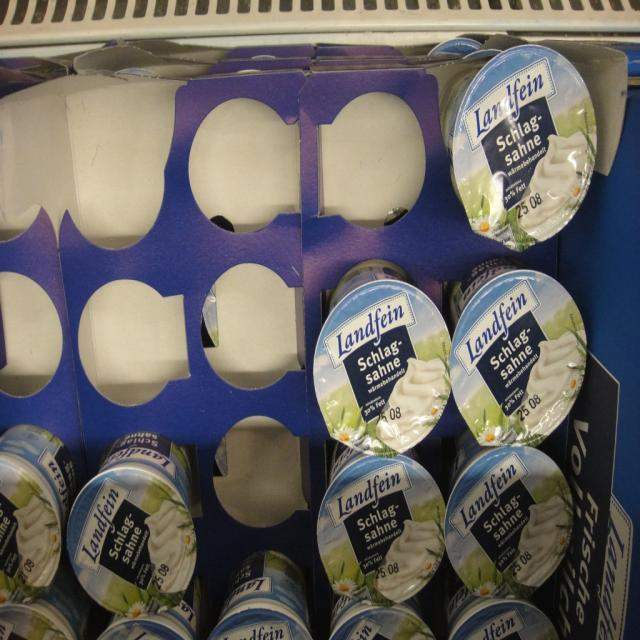Cream: (442, 44, 598, 251), (314, 261, 451, 458), (451, 258, 587, 446), (67, 433, 196, 618), (446, 430, 574, 599), (318, 443, 446, 607), (0, 425, 77, 604), (209, 552, 311, 640), (447, 573, 559, 640), (0, 566, 91, 640), (98, 578, 201, 640), (331, 595, 436, 640)
